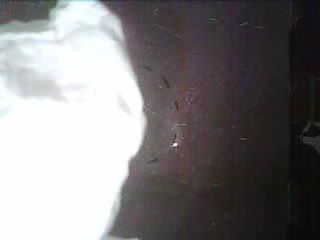paper: (0, 1, 145, 239)
